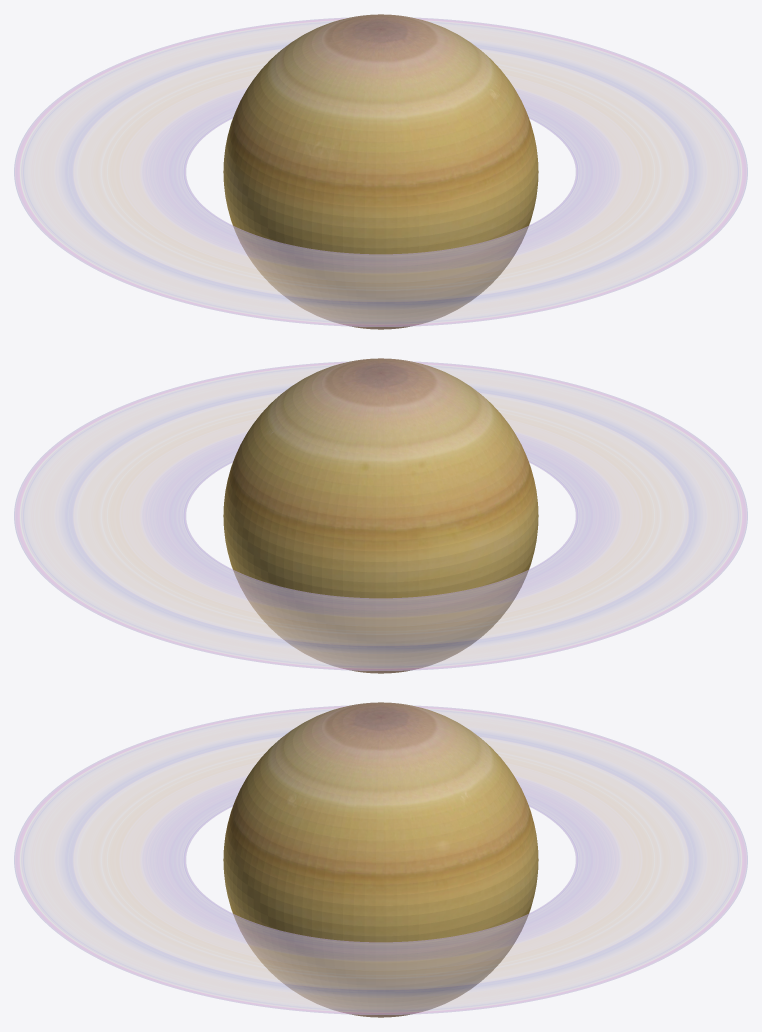
The model's file is saturn.glb.
3 views of the same model, one above another, from view 1: azimuth 30°, elevation 25°; view 2: azimuth 150°, elevation 25°; view 3: azimuth 270°, elevation 25° (orthographic).
Parts seen in each view (by area): view 1: material1, material0; view 2: material1, material0; view 3: material1, material0.
Part boxes in pixels (box(x1,y1,x2,y2)): material1: box(14, 17, 747, 326); material0: box(223, 14, 538, 329); material1: box(14, 361, 747, 670); material0: box(223, 358, 538, 673); material1: box(14, 705, 747, 1014); material0: box(223, 702, 538, 1017).
Size of the model in its own units: 280770 by 120536 by 280770.
2 materials, 2 textured.
